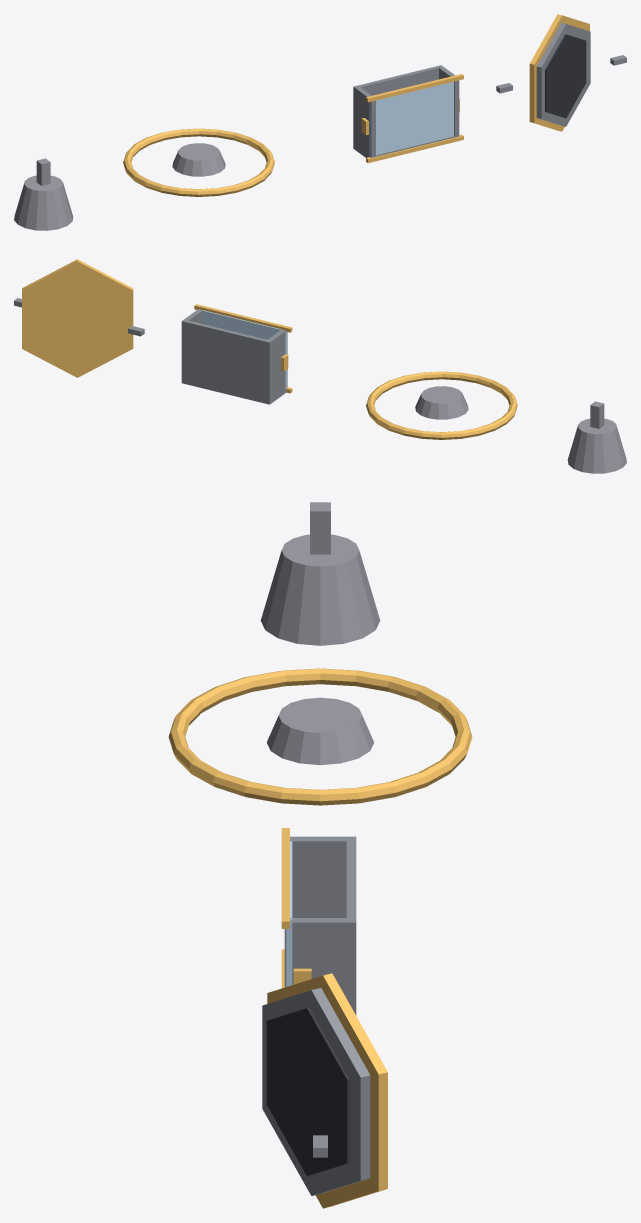
Rendered from shop_hover_hud_kit.fbx.
3 renders of one model, top to bottom at view 1: azimuth 30°, elevation 25°; view 2: azimuth 150°, elevation 25°; view 3: azimuth 270°, elevation 25°, orthographic. The views are drawn at different scales.
Visible parts, largest first — view 1: CG_WallF__HUD_Glass, HK_Ring__Shop_Neon, CA_Core__HUD_Dark, HK_Noz__Shop_Metal, CA_Chip__HUD_Metal, HK_RingHub__Shop_Metal, CA_Frame__HUD_Neon, CG_WallB__HUD_Metal, CG_WallL__HUD_Metal, CG_Rail__HUD_Neon, CG_Rail2__HUD_Neon, CG_WallR__HUD_Metal (+1 smaller); view 2: CA_Frame__HUD_Neon, CG_WallB__HUD_Metal, HK_Ring__Shop_Neon, HK_Noz__Shop_Metal, HK_RingHub__Shop_Metal, CG_WallF__HUD_Glass, CG_WallL__HUD_Metal, CG_Floor__HUD_Metal, CG_Rail__HUD_Neon, HK_Strut__Shop_Metal; view 3: HK_Ring__Shop_Neon, CA_Core__HUD_Dark, HK_Noz__Shop_Metal, CA_Chip__HUD_Metal, HK_RingHub__Shop_Metal, CA_Frame__HUD_Neon, CG_WallL__HUD_Metal, CG_WallR__HUD_Metal, CG_WallB__HUD_Metal, HK_Strut__Shop_Metal.
Part boxes in pixels (x1=…): CG_WallF__HUD_Glass: x1=369, y1=81, x2=453, y2=155; HK_Ring__Shop_Neon: x1=123, y1=128, x2=274, y2=196; CA_Core__HUD_Dark: x1=545, y1=34, x2=586, y2=118; HK_Noz__Shop_Metal: x1=14, y1=175, x2=73, y2=230; CA_Chip__HUD_Metal: x1=536, y1=23, x2=590, y2=126; HK_RingHub__Shop_Metal: x1=172, y1=143, x2=225, y2=176; CA_Frame__HUD_Neon: x1=529, y1=14, x2=589, y2=131; CG_WallB__HUD_Metal: x1=353, y1=65, x2=443, y2=146; CG_WallL__HUD_Metal: x1=355, y1=87, x2=375, y2=157; CG_Rail__HUD_Neon: x1=366, y1=74, x2=463, y2=102; CG_Rail2__HUD_Neon: x1=366, y1=134, x2=463, y2=163; CG_WallR__HUD_Metal: x1=439, y1=67, x2=459, y2=136; CA_Frame__HUD_Neon: x1=22, y1=259, x2=133, y2=377; CG_WallB__HUD_Metal: x1=181, y1=319, x2=272, y2=400; HK_Ring__Shop_Neon: x1=366, y1=371, x2=517, y2=439; HK_Noz__Shop_Metal: x1=567, y1=418, x2=626, y2=473; HK_RingHub__Shop_Metal: x1=415, y1=386, x2=468, y2=419; CG_WallF__HUD_Glass: x1=198, y1=309, x2=287, y2=390; CG_WallL__HUD_Metal: x1=265, y1=329, x2=287, y2=398; CG_Floor__HUD_Metal: x1=181, y1=378, x2=287, y2=404; CG_Rail__HUD_Neon: x1=194, y1=304, x2=292, y2=332; HK_Strut__Shop_Metal: x1=590, y1=401, x2=604, y2=428; HK_Ring__Shop_Neon: x1=168, y1=668, x2=472, y2=805; CA_Core__HUD_Dark: x1=266, y1=1007, x2=349, y2=1175; HK_Noz__Shop_Metal: x1=260, y1=534, x2=380, y2=645; CA_Chip__HUD_Metal: x1=262, y1=988, x2=370, y2=1195; HK_RingHub__Shop_Metal: x1=266, y1=697, x2=374, y2=765; CA_Frame__HUD_Neon: x1=267, y1=973, x2=387, y2=1208; CG_WallL__HUD_Metal: x1=290, y1=836, x2=356, y2=917; CG_WallR__HUD_Metal: x1=284, y1=918, x2=355, y2=997; CG_WallB__HUD_Metal: x1=346, y1=837, x2=356, y2=1015; HK_Strut__Shop_Metal: x1=310, y1=502, x2=330, y2=554.
Bounding box in the file's own units: 23.45 × 4.3 × 5.08.
